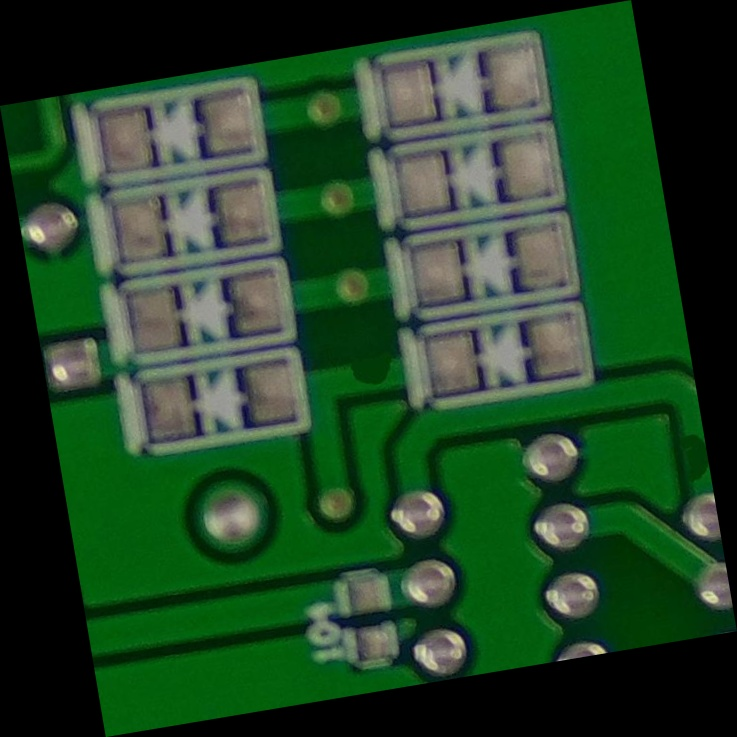mouse_bite: (328, 335, 409, 403)
